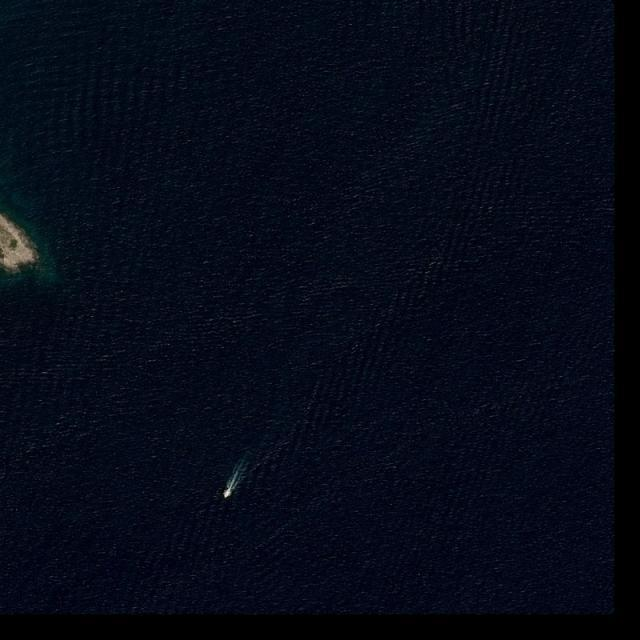ship: (223, 489, 231, 500)
